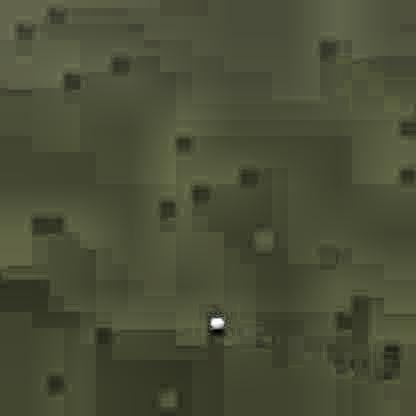golfball: (208, 315, 223, 327)
